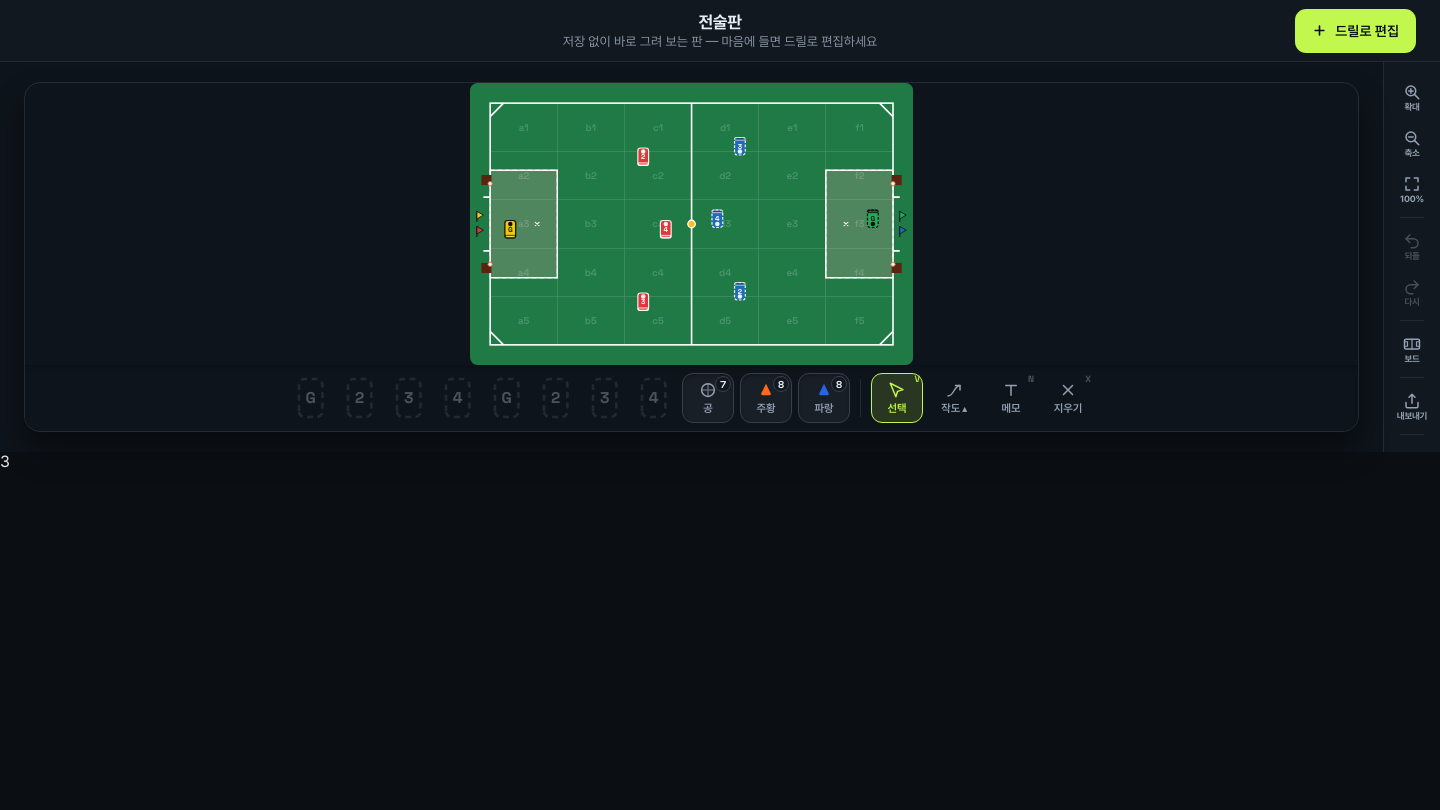
코트 비우기 — 덩어리가 크므로 확인을 받고, 되돌릴 수 있다 › 취소하면 아무것도 사라지지 않는다
expect the navigation bar named "도구" is shown: met, box [25,365,1358,431]
Click the button with aria-label "보드 설정": (1412,349) [1390,327,1434,371]
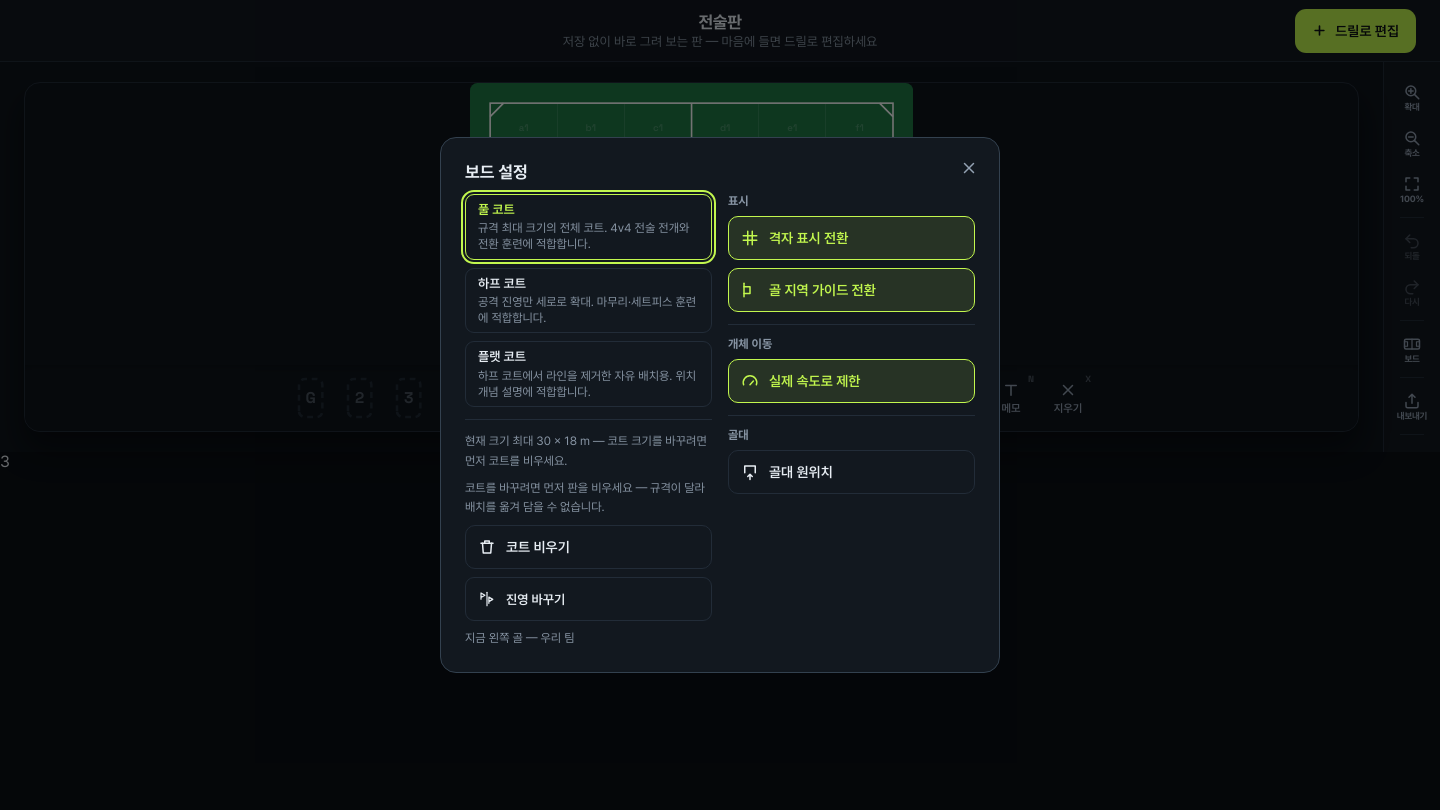
Click the button "코트 비우기": (588,547) [465,525,712,569]
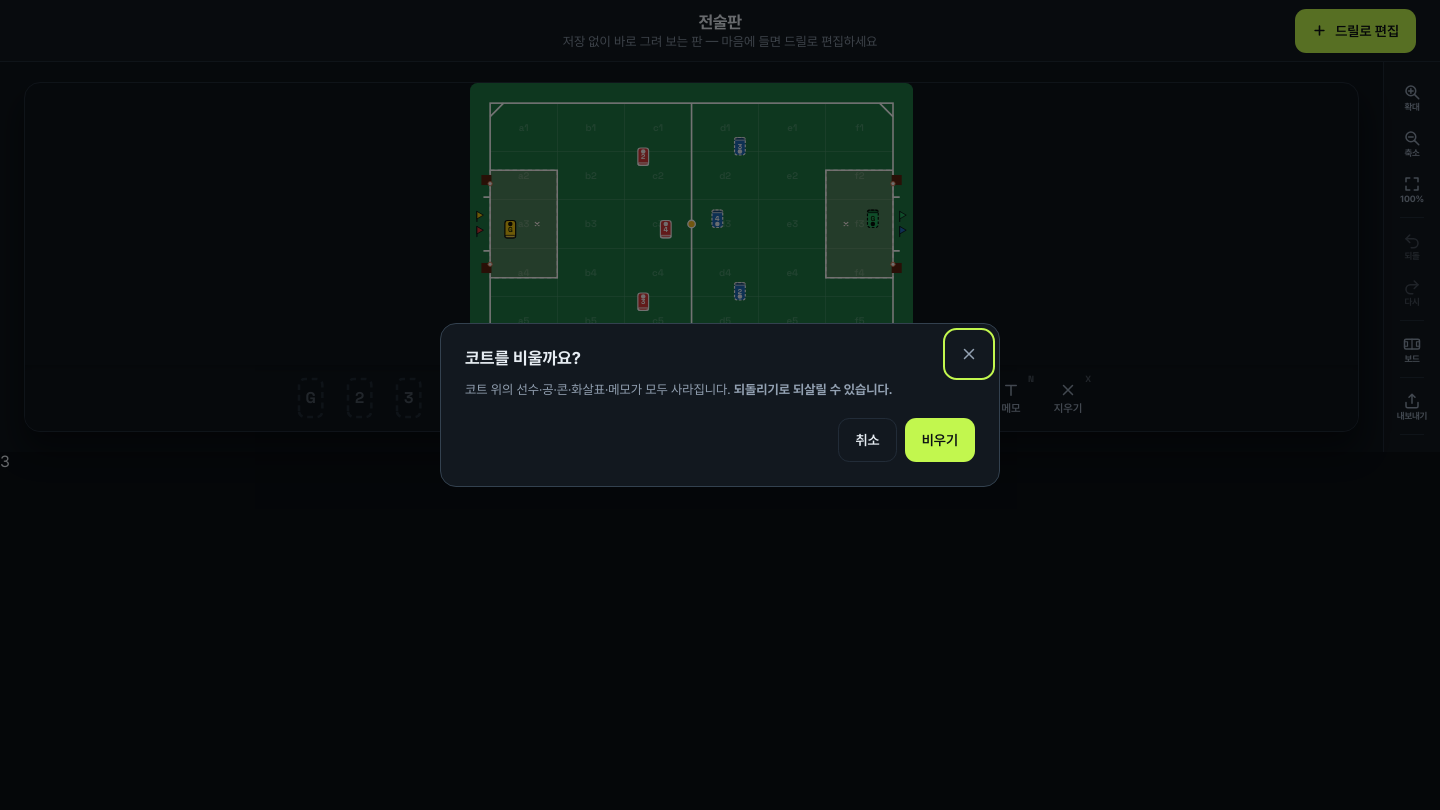
expect the dialog is shown: met, box [440,323,1000,487]
Click the button "취소": (868,440) [838,418,897,462]
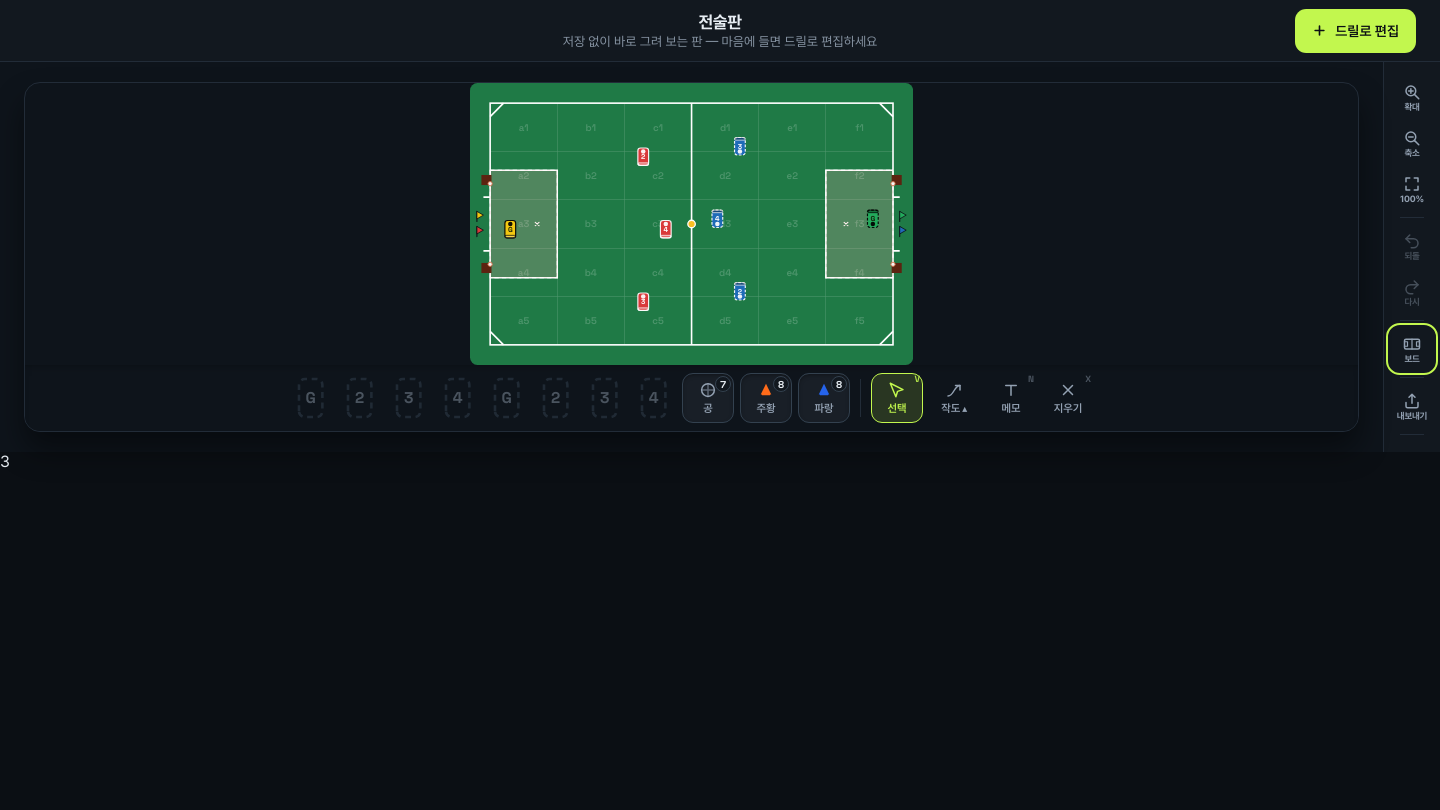
expect the dialog is gone: met
